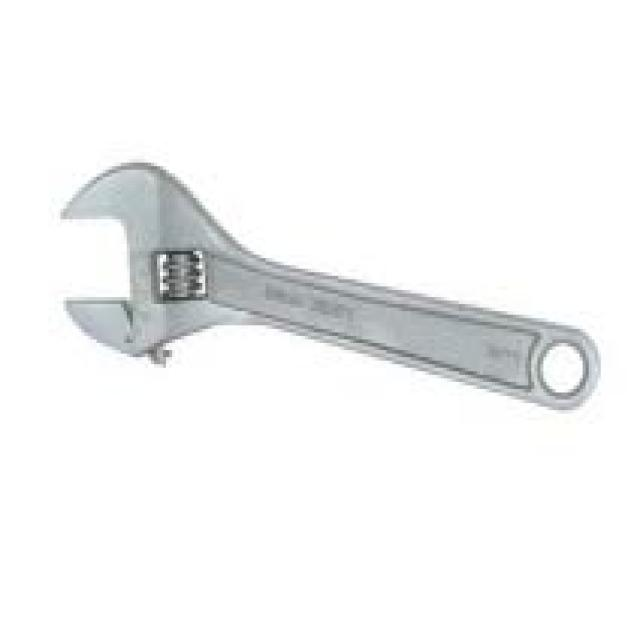wrench: (45, 130, 640, 440)
